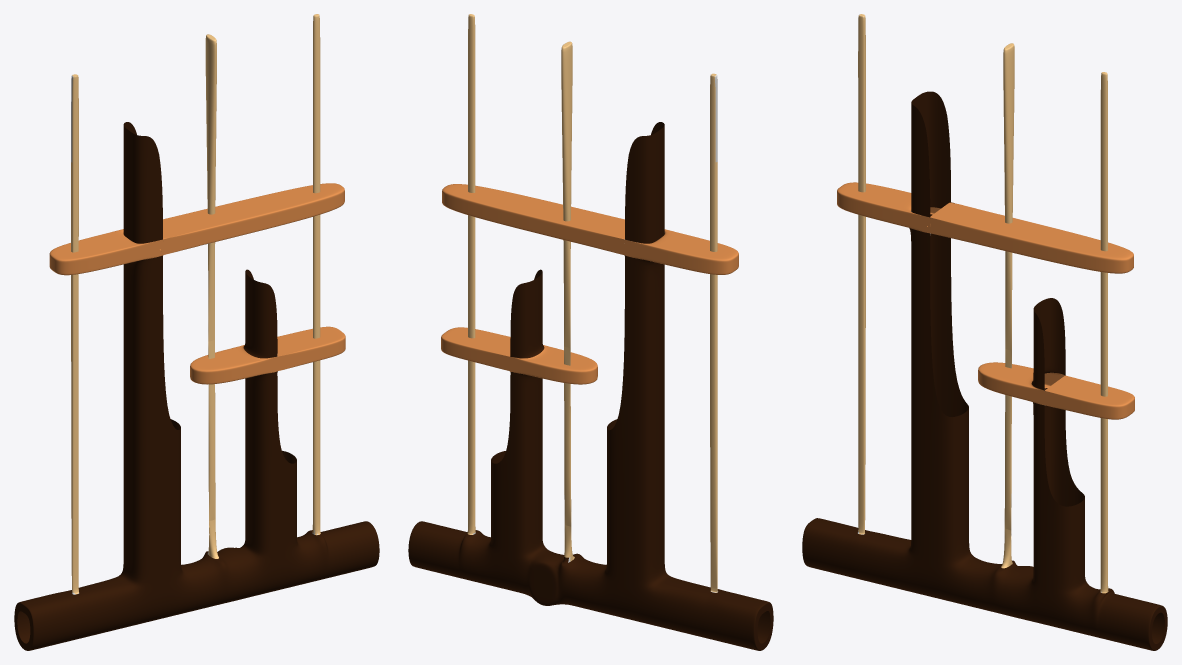
The model's file is angklung.glb.
3 renders of one model, left to right at view 1: azimuth 30°, elevation 25°; view 2: azimuth 150°, elevation 25°; view 3: azimuth 330°, elevation 25°, orthographic.
Parts seen in each view (by area): view 1: Cube; view 2: Cube; view 3: Cube.
Boxes of the visible parts, x1,y1,x2,y2 form: Cube: (14,14,379,650); Cube: (408,14,773,650); Cube: (802,14,1167,650).
Size of the model in its own units: 1.39 by 2.17 by 0.145.
